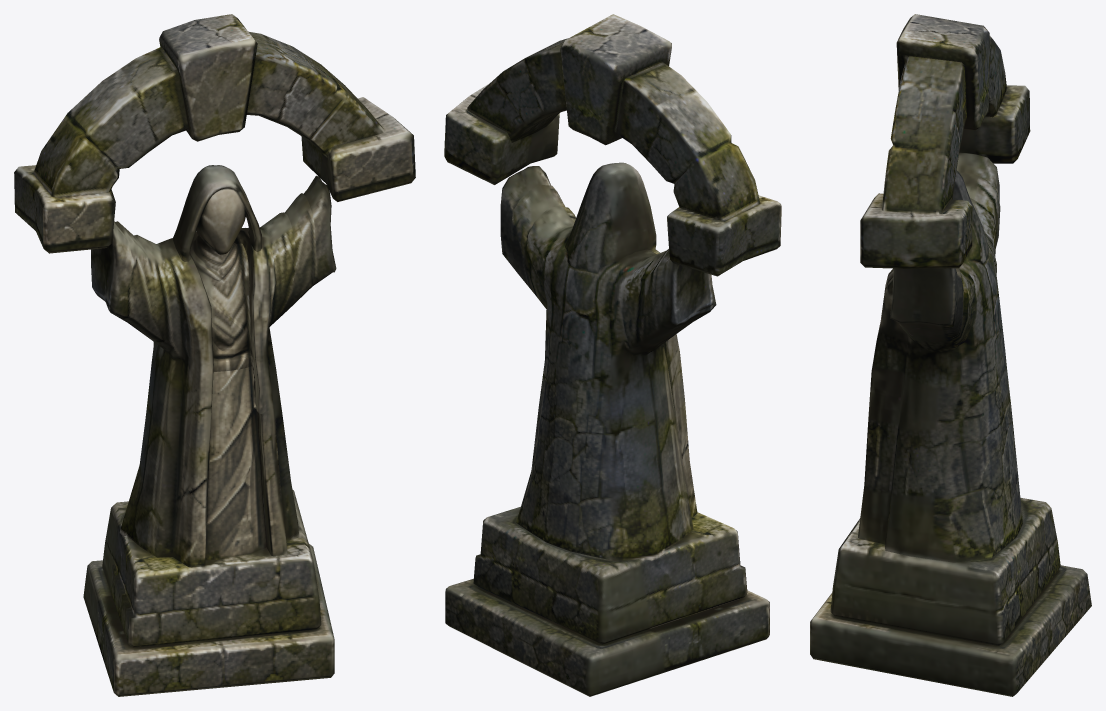
File: act1_kit_v1_saint_statue_arch.glb
3 views of the same model, side by side, from view 1: azimuth 30°, elevation 25°; view 2: azimuth 150°, elevation 25°; view 3: azimuth 270°, elevation 25° (orthographic). The views are drawn at different scales.
Parts seen in each view (by area): view 1: act1_kit_v1_saint_statue_arch; view 2: act1_kit_v1_saint_statue_arch; view 3: act1_kit_v1_saint_statue_arch.
Part boxes in pixels (bbox=[...]): act1_kit_v1_saint_statue_arch: bbox=[14, 14, 415, 696]; act1_kit_v1_saint_statue_arch: bbox=[444, 14, 781, 696]; act1_kit_v1_saint_statue_arch: bbox=[810, 14, 1091, 696].
Bounding box in the file's own units: 0.577 × 1 × 0.4224.
Materials: 1 (1 with a texture image).
